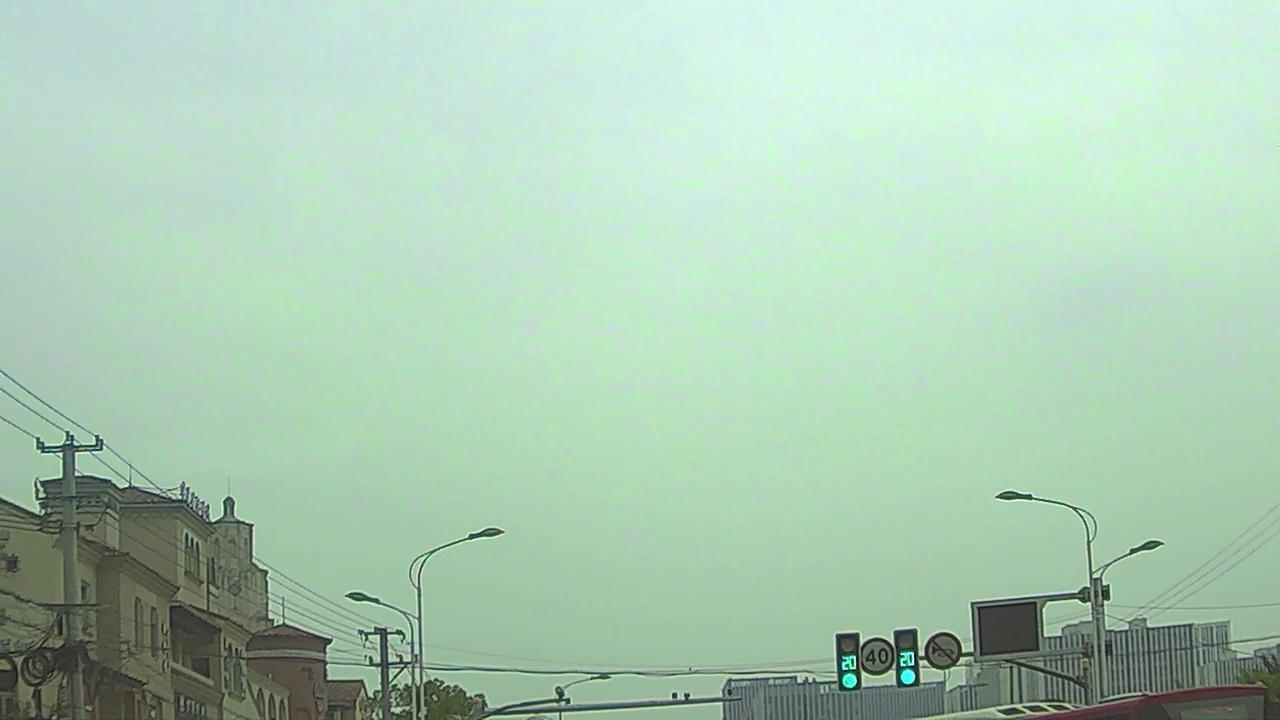traffic_light: (836, 634, 865, 689), (898, 630, 919, 688)
